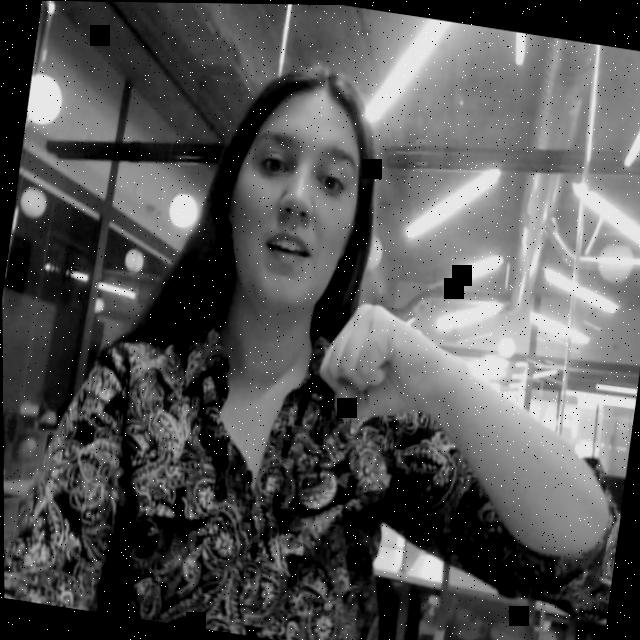Rock: (306, 289, 453, 446)
